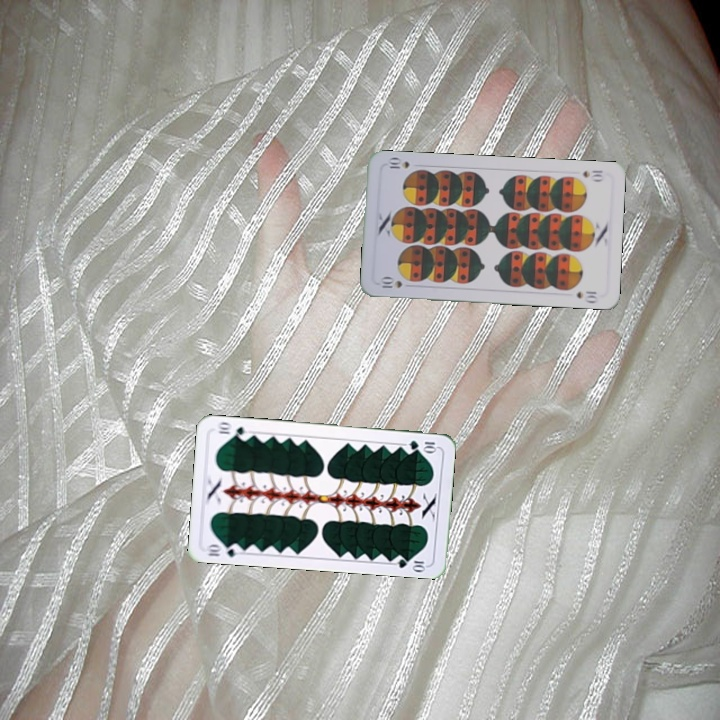G10: (202, 540, 243, 559), (405, 436, 439, 453)
S10: (579, 166, 606, 184), (377, 274, 405, 291)
